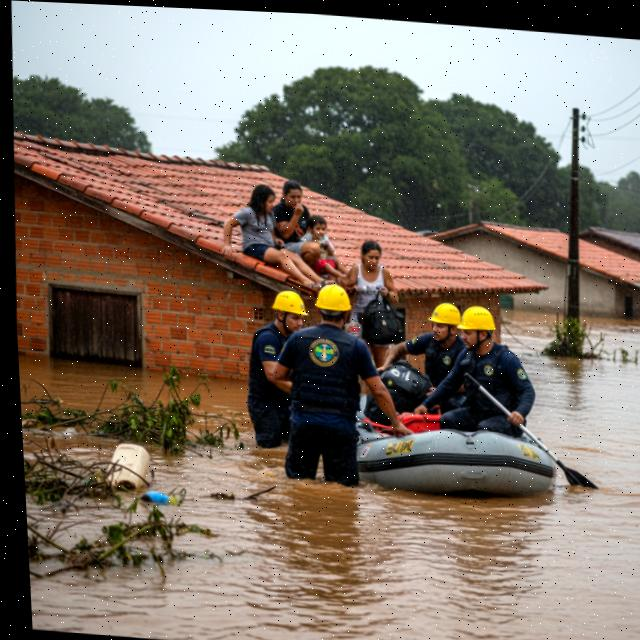civilian: (214, 173, 333, 296), (336, 232, 408, 365), (267, 174, 328, 273), (301, 204, 341, 270)
rescuer: (268, 279, 415, 497), (406, 292, 543, 451), (238, 286, 318, 460), (372, 294, 466, 401)
